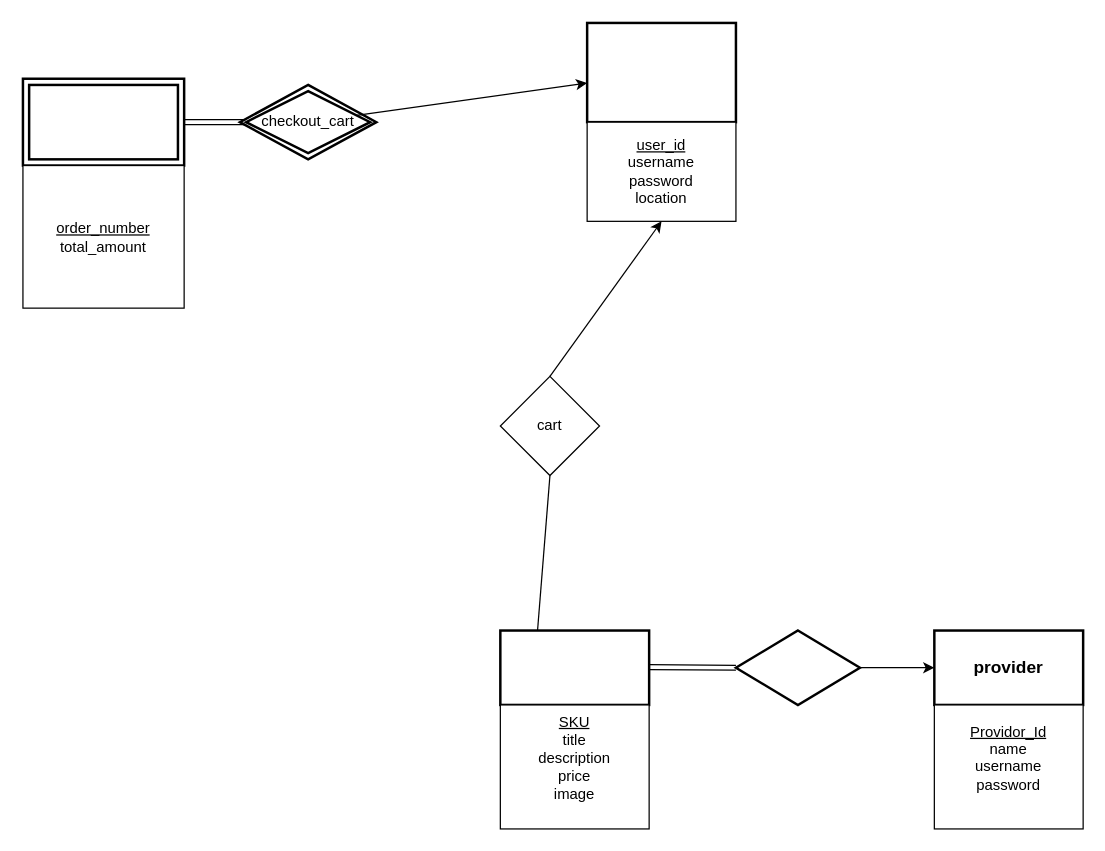
Some shapes in this 1105 by 851 pixel diagram are drawn without their labels. The centre of each missing label's shape, as x and y in pixels:
"album" belongs at point (574, 667).
"checkout" belongs at point (103, 121).
"sells" belongs at point (797, 667).
"users" belongs at point (661, 72).
